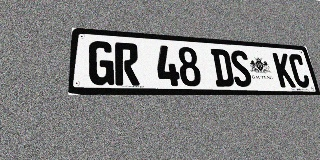4: (155, 45, 180, 86)
8: (177, 46, 202, 86)
C: (288, 54, 311, 88)
D: (210, 49, 235, 87)
G: (88, 41, 114, 85)
K: (272, 53, 296, 87)
R: (115, 42, 140, 86)
S: (229, 50, 253, 87)
